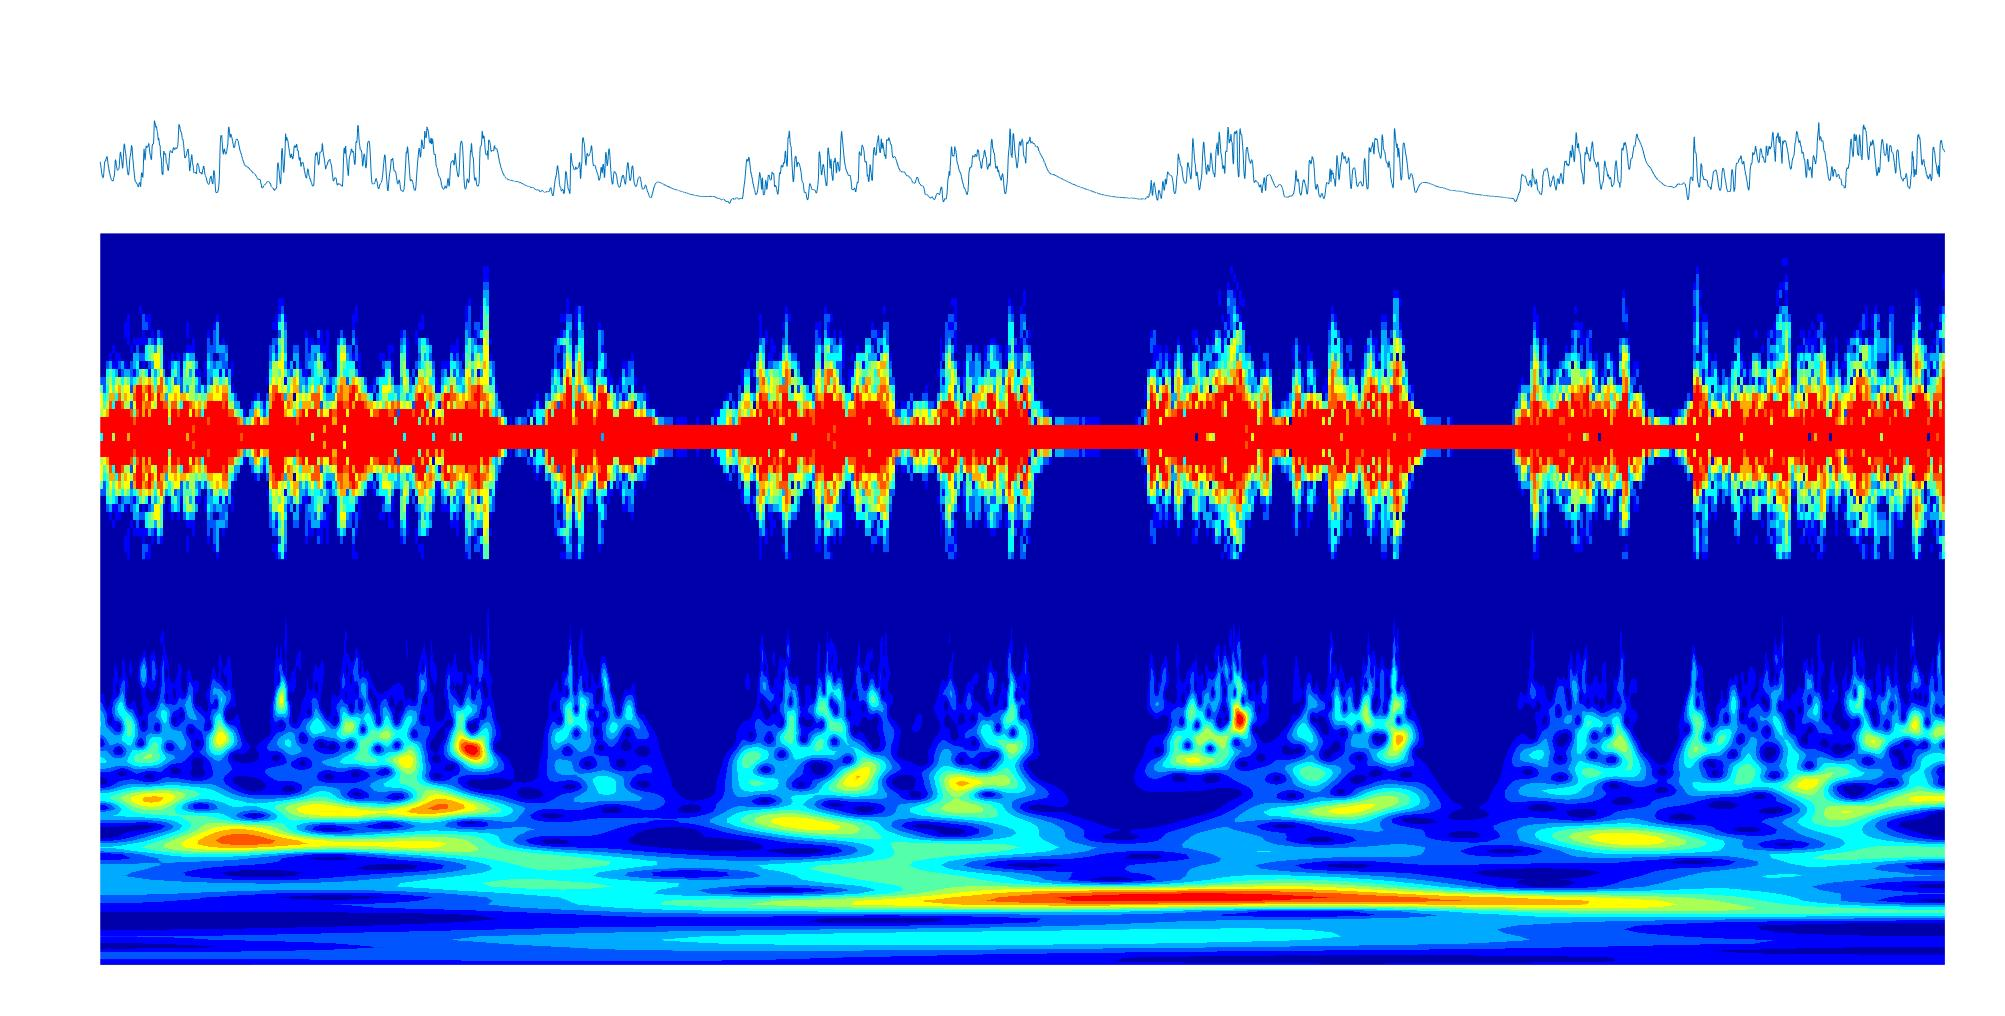TURBULENT: (1141, 235, 1413, 967), (1686, 235, 1945, 963), (269, 235, 496, 960), (743, 235, 898, 963), (102, 235, 234, 963), (1519, 235, 1651, 962), (935, 232, 1039, 965), (549, 235, 644, 963)
